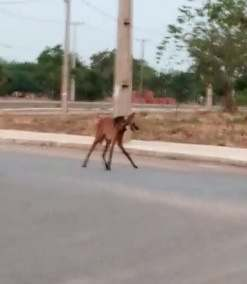LoboGuara: (81, 110, 144, 175)
